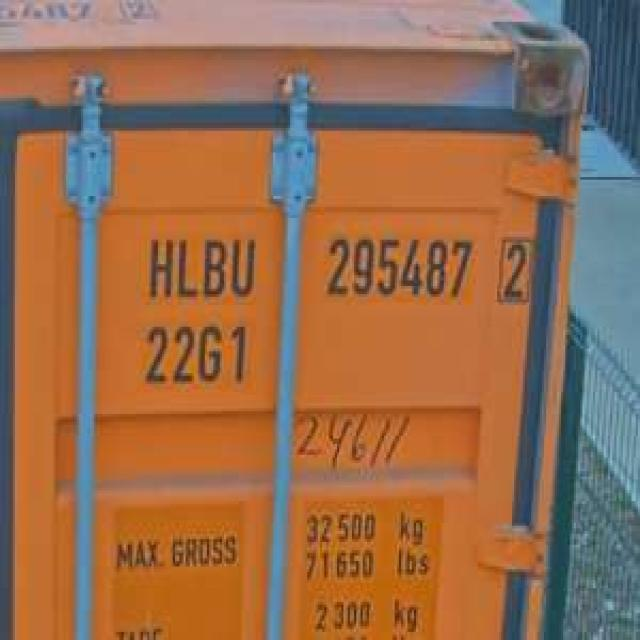dv: (493, 229, 535, 308)
owner: (143, 226, 258, 302)
serial: (320, 229, 474, 305)
size: (139, 316, 254, 389)
